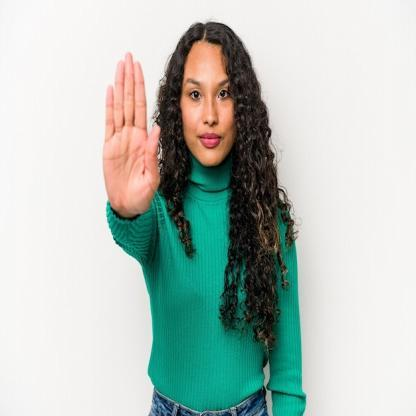stop: (102, 48, 160, 219)
